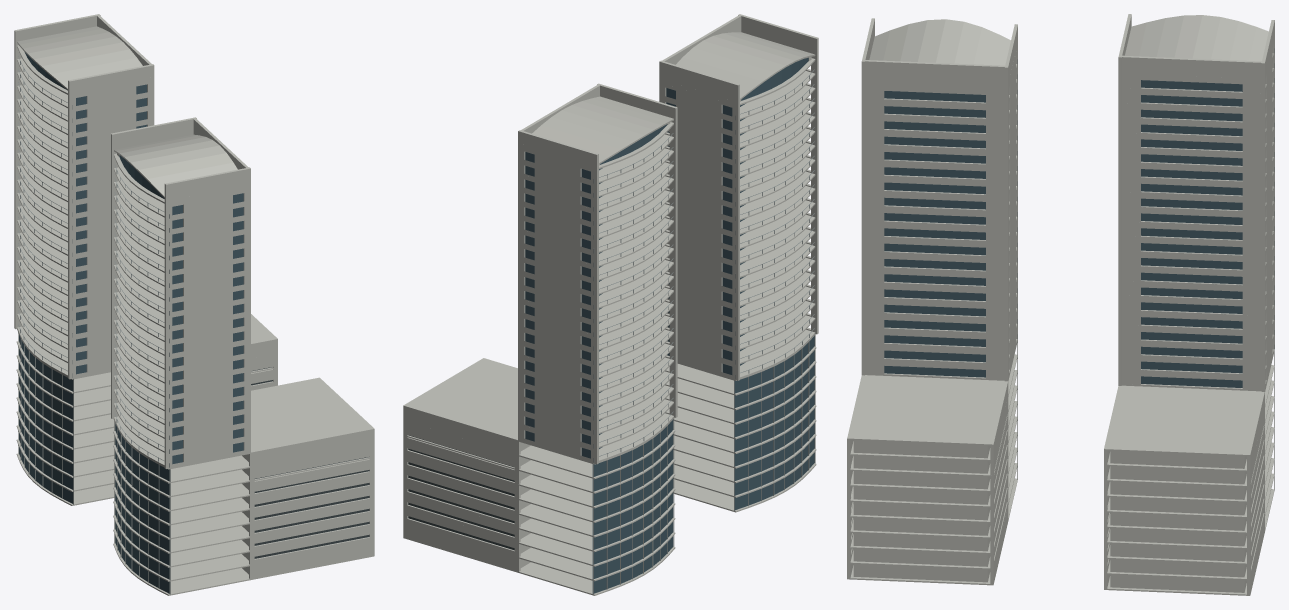
File: torres-paseo-colon-near.glb
3 views of the same model, side by side, from view 1: azimuth 30°, elevation 25°; view 2: azimuth 150°, elevation 25°; view 3: azimuth 270°, elevation 25° (orthographic). The views are drawn at different scales.
Visible parts, largest first — view 1: torres-paseo-colon-0-stone, torres-paseo-colon-0-glass, torres-paseo-colon-0-rail, torres-paseo-colon-0-trim, torres-paseo-colon-0-shadow, torres-paseo-colon-0-metal; view 2: torres-paseo-colon-0-stone, torres-paseo-colon-0-glass, torres-paseo-colon-0-rail, torres-paseo-colon-0-trim, torres-paseo-colon-0-shadow, torres-paseo-colon-0-metal; view 3: torres-paseo-colon-0-stone, torres-paseo-colon-0-glass.
Boxes of the visible parts, <box> form: torres-paseo-colon-0-stone: <box>14,14,374,595</box>; torres-paseo-colon-0-glass: <box>19,52,243,593</box>; torres-paseo-colon-0-rail: <box>18,55,164,460</box>; torres-paseo-colon-0-trim: <box>18,332,170,594</box>; torres-paseo-colon-0-shadow: <box>251,367,369,558</box>; torres-paseo-colon-0-metal: <box>20,61,169,467</box>; torres-paseo-colon-0-stone: <box>403,14,818,595</box>; torres-paseo-colon-0-glass: <box>525,57,814,593</box>; torres-paseo-colon-0-rail: <box>599,69,814,456</box>; torres-paseo-colon-0-trim: <box>593,335,815,594</box>; torres-paseo-colon-0-shadow: <box>408,435,514,550</box>; torres-paseo-colon-0-metal: <box>593,75,809,462</box>; torres-paseo-colon-0-stone: <box>847,14,1274,595</box>; torres-paseo-colon-0-glass: <box>884,80,1242,387</box>.
Bounding box in the file's own units: 57.71 × 101 × 83.73.
